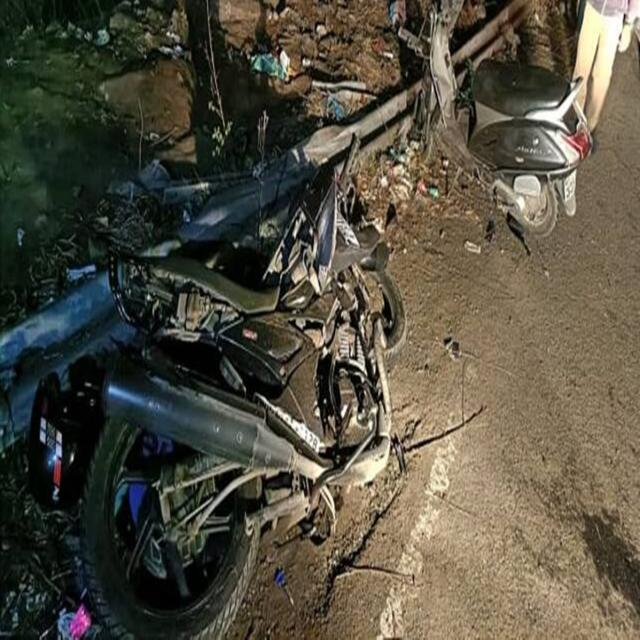accident: (29, 151, 406, 636), (399, 0, 591, 236)
